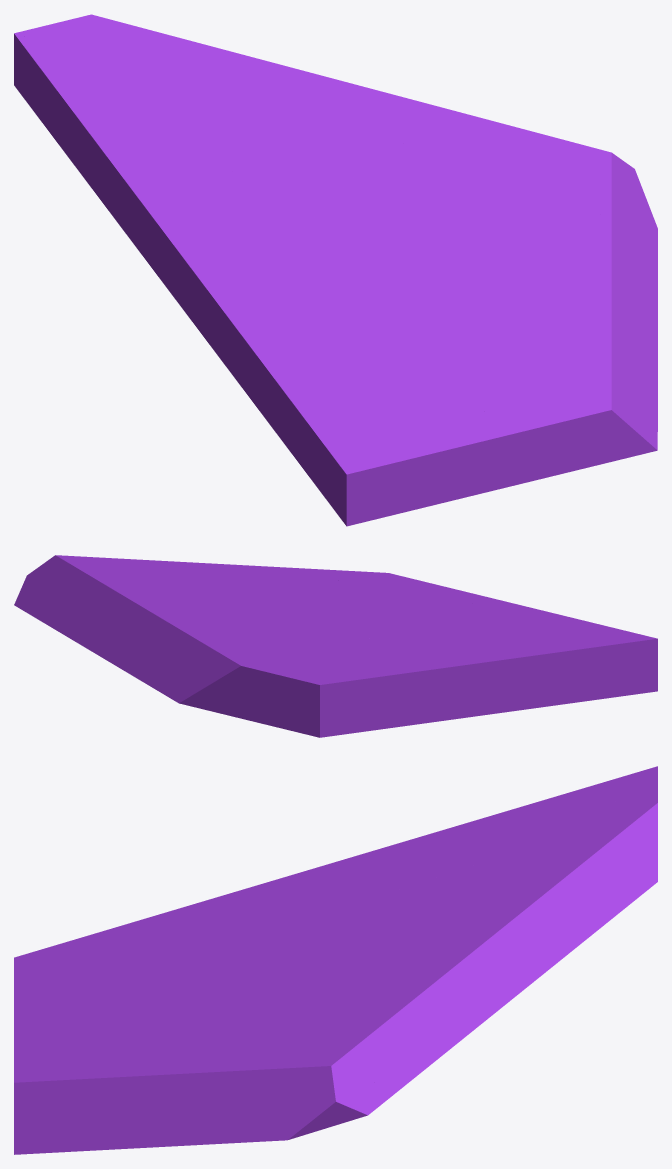
The model's file is Window_148_1_chunks.fbx.
3 views of the same model, one above another, from view 1: azimuth 30°, elevation 25°; view 2: azimuth 150°, elevation 25°; view 3: azimuth 270°, elevation 25° (orthographic). The views are drawn at different scales.
Visible parts, largest first — view 1: Window_148_1_3, Window_148_1_11, Window_148_1_13, Window_148_1_2, Window_148_1_14, Window_148_1_7, Window_148_1_4, Window_148_1_9, Window_148_1_6, Window_148_1_17, Window_148_1_0, Window_148_1_19 (+9 smaller); view 2: Window_148_1_3, Window_148_1_14, Window_148_1_21, Window_148_1_11, Window_148_1_8, Window_148_1_19, Window_148_1_4, Window_148_1_2, Window_148_1_6, Window_148_1_17, Window_148_1_18, Window_148_1_13 (+8 smaller); view 3: Window_148_1_7, Window_148_1_3, Window_148_1_8, Window_148_1_19, Window_148_1_2, Window_148_1_6, Window_148_1_13, Window_148_1_4, Window_148_1_11, Window_148_1_21, Window_148_1_9, Window_148_1_14 (+7 smaller).
Part boxes in pixels (x1,y1,x2,y2): Window_148_1_3: (179, 229, 422, 467); Window_148_1_11: (301, 356, 501, 526); Window_148_1_13: (468, 339, 657, 459); Window_148_1_2: (362, 230, 650, 377); Window_148_1_14: (18, 59, 199, 226); Window_148_1_7: (544, 193, 657, 386); Window_148_1_4: (269, 84, 398, 235); Window_148_1_9: (404, 145, 558, 289); Window_148_1_6: (492, 130, 644, 218); Window_148_1_17: (150, 163, 274, 297); Window_148_1_0: (303, 131, 445, 231); Window_148_1_19: (181, 49, 353, 115); Window_148_1_3: (331, 610, 612, 714); Window_148_1_14: (311, 651, 460, 736); Window_148_1_21: (157, 638, 319, 710); Window_148_1_11: (457, 601, 657, 697); Window_148_1_8: (15, 573, 190, 650); Window_148_1_19: (101, 610, 288, 689); Window_148_1_4: (91, 600, 399, 656); Window_148_1_2: (269, 566, 400, 617); Window_148_1_6: (14, 555, 186, 605); Window_148_1_17: (341, 638, 492, 707); Window_148_1_18: (210, 696, 330, 737); Window_148_1_13: (315, 569, 502, 604); Window_148_1_7: (92, 1037, 347, 1150); Window_148_1_3: (102, 864, 329, 984); Window_148_1_8: (347, 958, 503, 1113); Window_148_1_19: (475, 850, 618, 991); Window_148_1_2: (77, 949, 309, 1138); Window_148_1_6: (256, 1008, 383, 1121); Window_148_1_13: (14, 1011, 123, 1154); Window_148_1_4: (329, 902, 520, 1005); Window_148_1_11: (14, 931, 150, 1029); Window_148_1_21: (557, 766, 657, 912); Window_148_1_9: (178, 964, 402, 1048); Window_148_1_14: (390, 777, 619, 865).
Bounding box in the file's own units: 919 × 482 × 1165.
